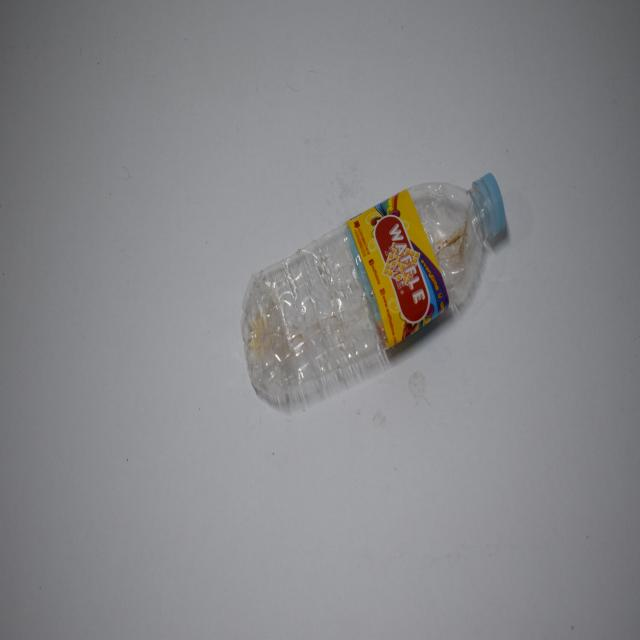bottle: (244, 135, 518, 436)
